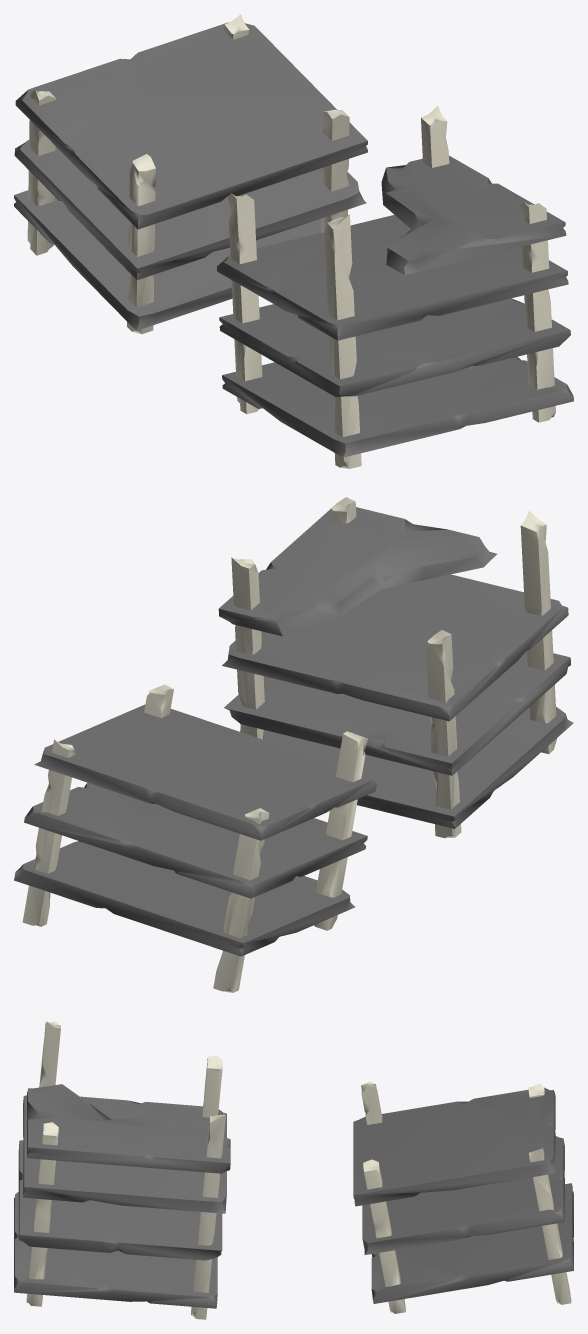
The model's file is Ruins_Final Model.fbx.
3 views of the same model, one above another, from view 1: azimuth 30°, elevation 25°; view 2: azimuth 150°, elevation 25°; view 3: azimuth 270°, elevation 25° (orthographic). The views are drawn at different scales.
Parts seen in each view (by area): view 1: Box011, Box003, Box002, Box001, Box010, Box004, Box009, Box008, Box007, Box005, Box016, Box015 (+2 smaller); view 2: Box003, Box011, Box004, Box010, Box009, Box002, Box001, Box008, Box007, Box015, Box014, Box016 (+2 smaller); view 3: Box011, Box004, Box003, Box010, Box009, Box002, Box001, Box006, Box005, Box013, Box014, Box008 (+2 smaller).
Part boxes in pixels (x1=…): Box011: x1=15, y1=22, x2=367, y2=229; Box003: x1=217, y1=215, x2=568, y2=340; Box002: x1=219, y1=298, x2=570, y2=396; Box001: x1=222, y1=356, x2=573, y2=457; Box010: x1=14, y1=140, x2=366, y2=280; Box004: x1=381, y1=155, x2=566, y2=274; Box009: x1=14, y1=190, x2=321, y2=330; Box008: x1=324, y1=214, x2=361, y2=468; Box007: x1=227, y1=193, x2=262, y2=414; Box005: x1=520, y1=202, x2=555, y2=422; Box016: x1=127, y1=154, x2=155, y2=334; Box015: x1=27, y1=89, x2=56, y2=255; Box003: x1=222, y1=574, x2=568, y2=721; Box011: x1=34, y1=704, x2=376, y2=840; Box004: x1=218, y1=503, x2=497, y2=636; Box010: x1=24, y1=783, x2=367, y2=898; Box009: x1=14, y1=841, x2=355, y2=956; Box002: x1=224, y1=651, x2=570, y2=775; Box001: x1=263, y1=706, x2=573, y2=828; Box008: x1=520, y1=510, x2=557, y2=754; Box007: x1=426, y1=630, x2=461, y2=838; Box015: x1=213, y1=808, x2=269, y2=992; Box014: x1=22, y1=739, x2=75, y2=926; Box016: x1=314, y1=731, x2=367, y2=930; Box011: x1=353, y1=1088, x2=555, y2=1206; Box004: x1=27, y1=1084, x2=230, y2=1173; Box003: x1=23, y1=1095, x2=226, y2=1213; Box010: x1=362, y1=1136, x2=564, y2=1254; Box009: x1=371, y1=1183, x2=573, y2=1303; Box002: x1=18, y1=1140, x2=222, y2=1260; Box001: x1=14, y1=1192, x2=217, y2=1308; Box006: x1=191, y1=1114, x2=225, y2=1319; Box005: x1=26, y1=1122, x2=58, y2=1306; Box013: x1=363, y1=1159, x2=405, y2=1313; Box014: x1=529, y1=1148, x2=571, y2=1304; Box008: x1=39, y1=1021, x2=60, y2=1087.
Size of the model in its own units: 0.4617 by 1.09 by 0.4884.
